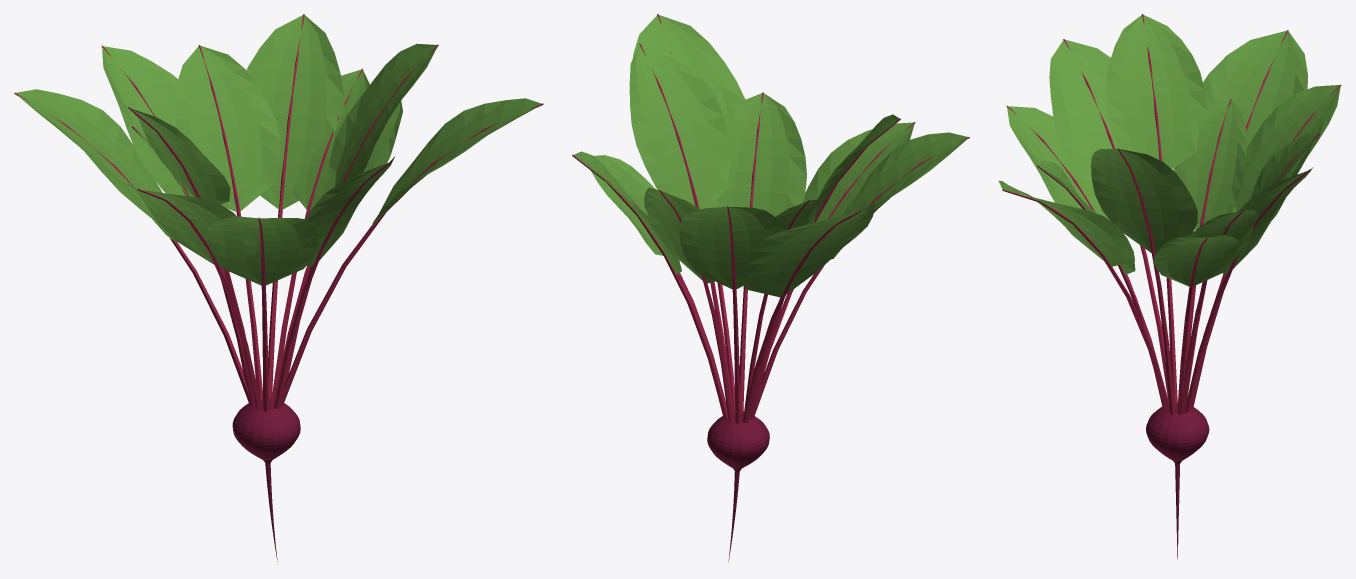
The model's file is beetroot_harvest_v10.glb.
3 renders of one model, left to right at view 1: azimuth 30°, elevation 25°; view 2: azimuth 150°, elevation 25°; view 3: azimuth 270°, elevation 25°, orthographic. The views are drawn at different scales.
Parts seen in each view (by area): view 1: plant; view 2: plant; view 3: plant.
Boxes of the visible parts, x1,y1,x2,y2 form: plant: (14, 14, 543, 561); plant: (572, 14, 969, 562); plant: (999, 14, 1341, 559).
Size of the model in its own units: 0.3984 by 0.5189 by 0.3396.
1 material, 1 textured.
